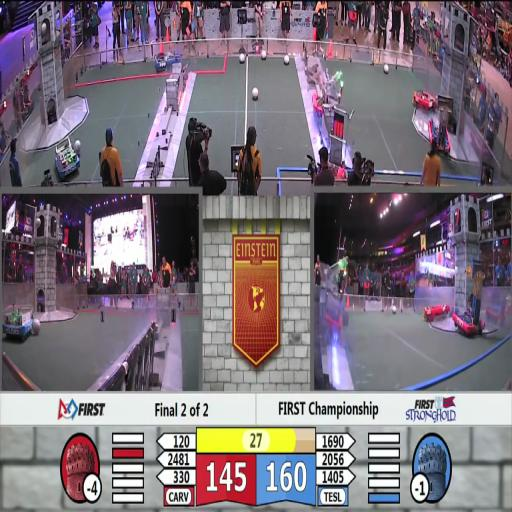robot: (319, 263, 348, 336), (454, 293, 486, 333), (1, 305, 37, 339), (55, 136, 83, 179), (427, 120, 454, 160), (311, 83, 343, 116), (412, 85, 438, 113), (421, 300, 450, 321), (154, 51, 168, 73), (166, 51, 180, 68)
